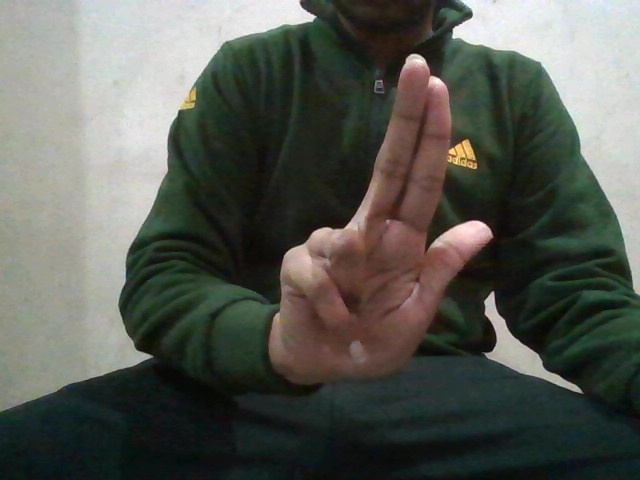K: (256, 51, 501, 386)
